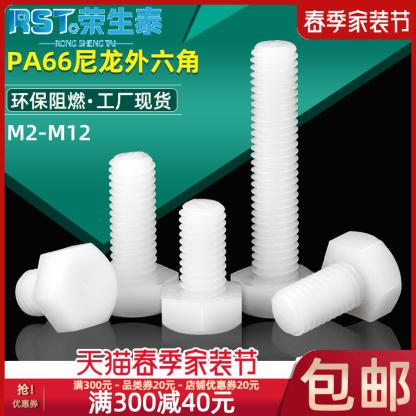FOD: (229, 36, 321, 320), (90, 149, 180, 320), (270, 228, 403, 338), (159, 197, 245, 338), (14, 241, 117, 335)
